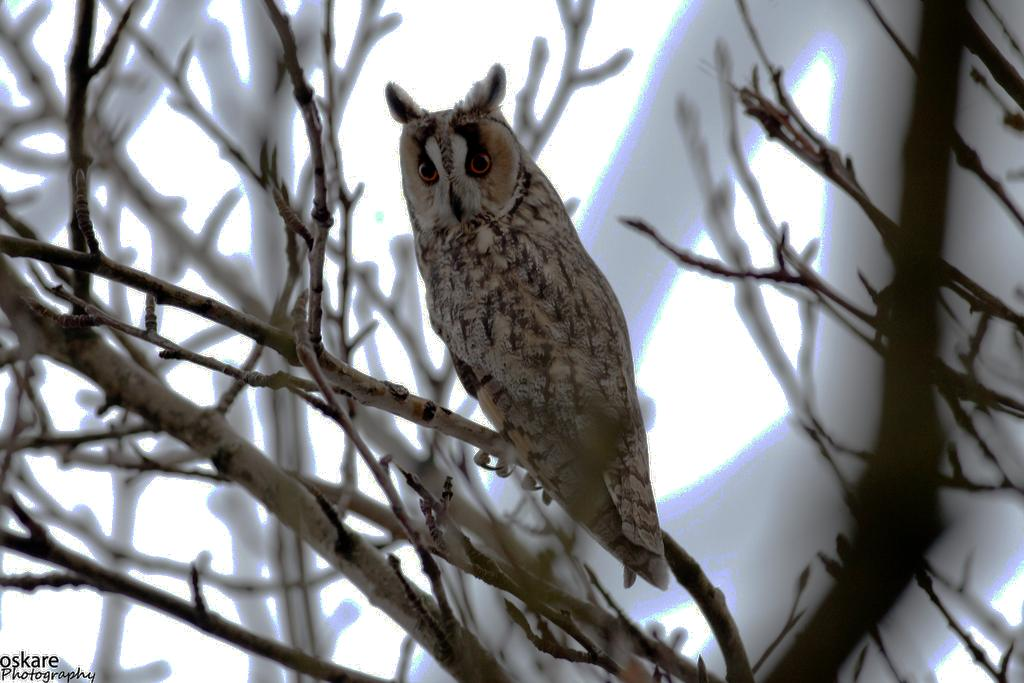Owl: (386, 57, 668, 592)
